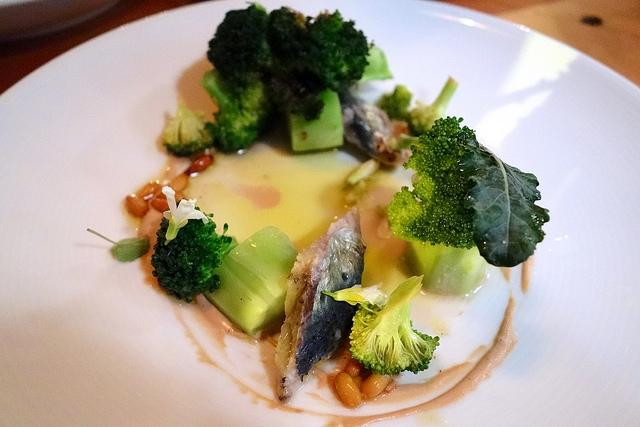broccoli: (386, 115, 488, 296), (266, 6, 394, 93), (204, 226, 299, 336), (349, 274, 440, 375), (150, 200, 238, 303), (199, 68, 276, 152), (206, 2, 270, 96), (286, 86, 344, 151), (406, 76, 460, 138), (162, 96, 214, 158)
